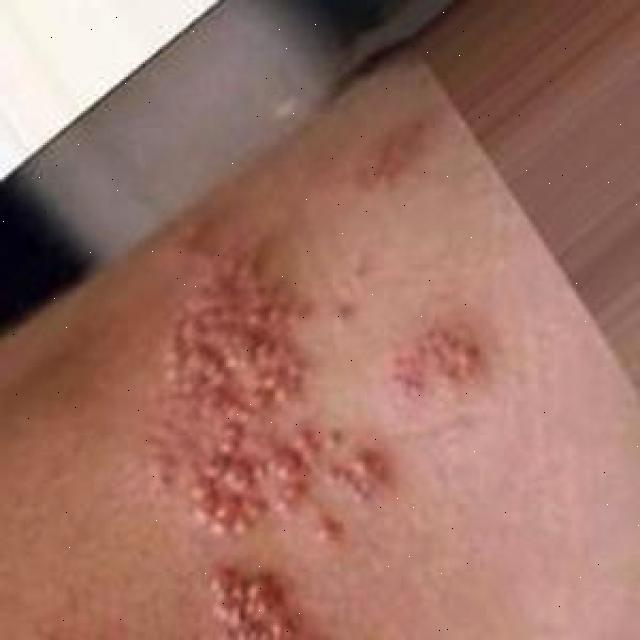Shingles: (177, 246, 385, 538), (208, 563, 301, 640), (395, 330, 481, 407)
